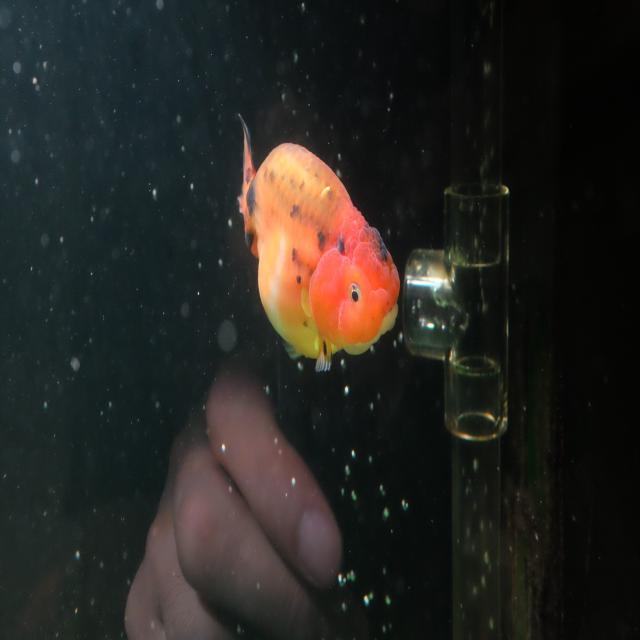Goldfish: (236, 109, 402, 379)
